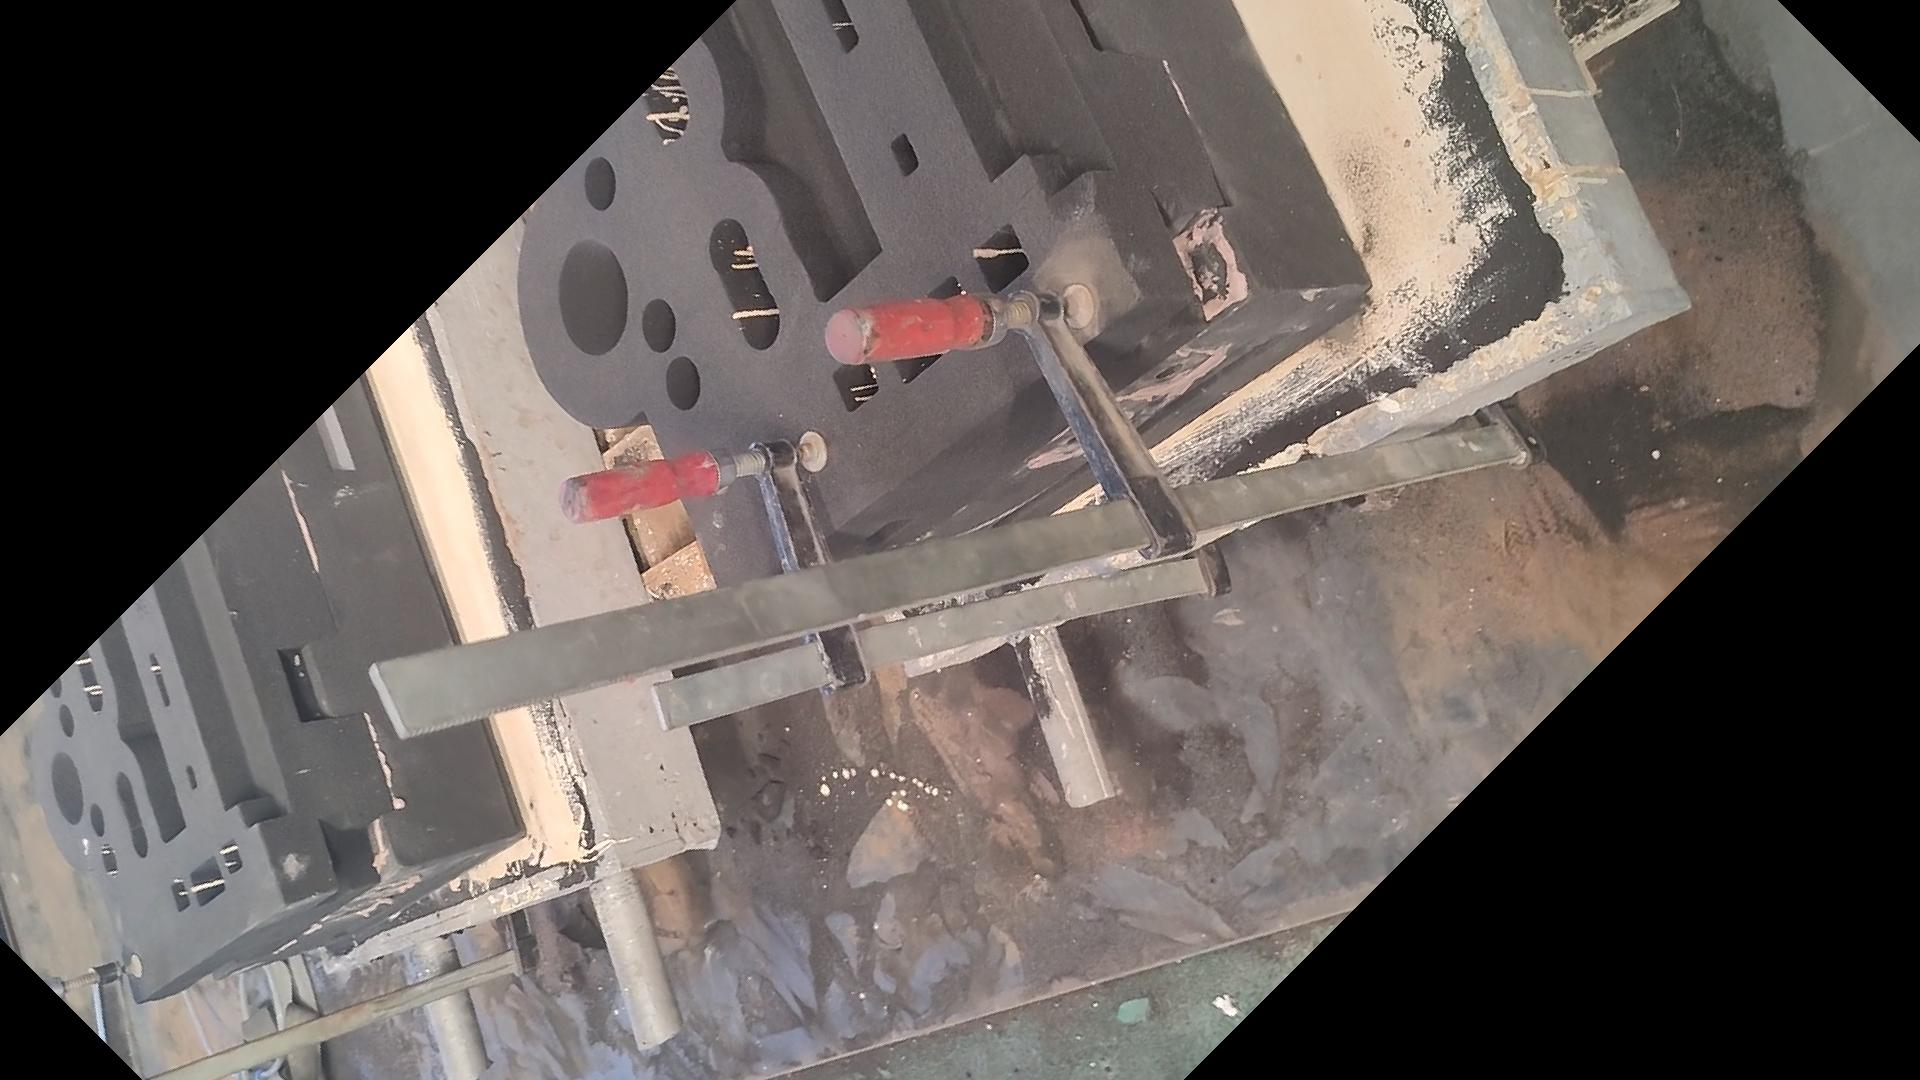pouring hole: (558, 237, 629, 356), (50, 750, 84, 825)
